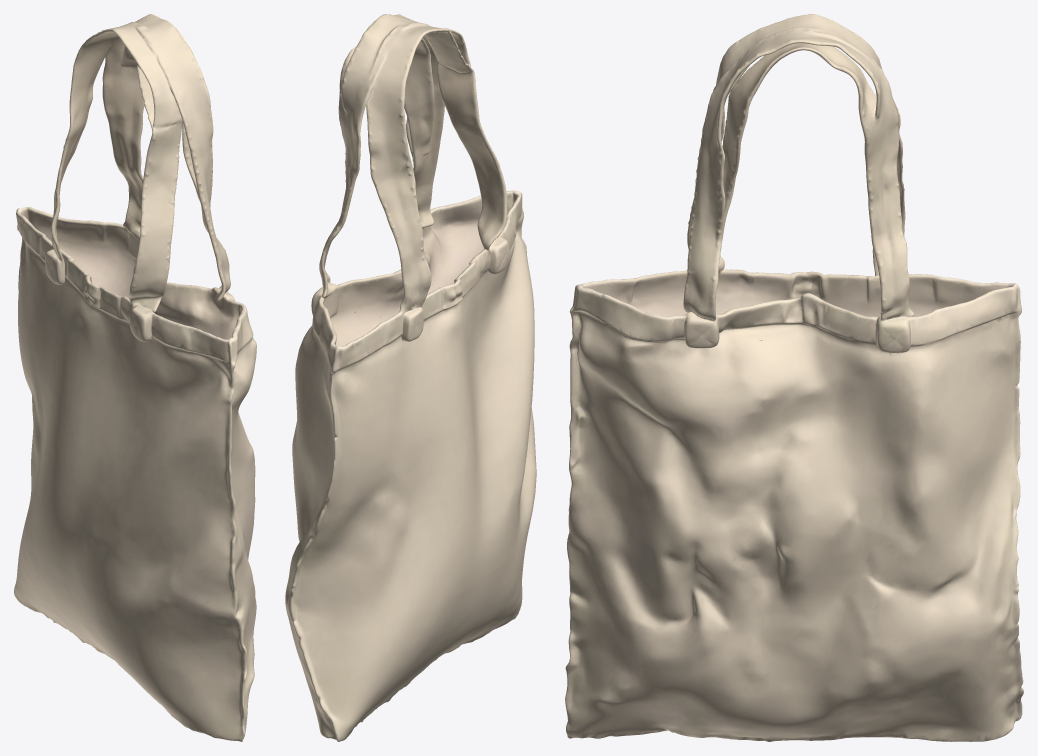
File: wm101-canvas-tote.glb
3 views of the same model, side by side, from view 1: azimuth 30°, elevation 25°; view 2: azimuth 150°, elevation 25°; view 3: azimuth 270°, elevation 25° (orthographic). The views are drawn at different scales.
Parts seen in each view (by area): view 1: tripo_node_4bfadca9-023f-42a3-a811-de47becc4f8e; view 2: tripo_node_4bfadca9-023f-42a3-a811-de47becc4f8e; view 3: tripo_node_4bfadca9-023f-42a3-a811-de47becc4f8e.
Part boxes in pixels (x1,y1,x2,y2): tripo_node_4bfadca9-023f-42a3-a811-de47becc4f8e: (14,14,256,741); tripo_node_4bfadca9-023f-42a3-a811-de47becc4f8e: (285,14,536,741); tripo_node_4bfadca9-023f-42a3-a811-de47becc4f8e: (565,14,1023,741).
Bounding box in the file's own units: 0.2307 × 1 × 0.581.
Materials: 1 (1 with a texture image).
